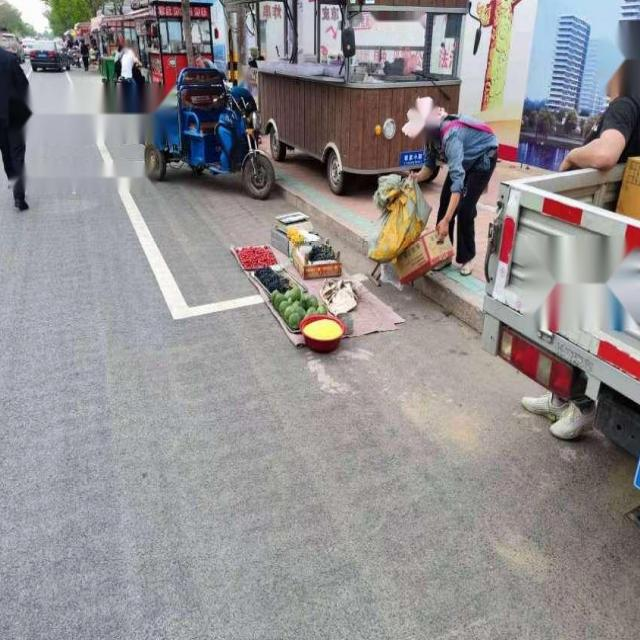car: (247, 0, 483, 195), (114, 66, 274, 200), (127, 0, 212, 89)
fixed_stall: (228, 206, 406, 354), (254, 48, 420, 80), (100, 10, 138, 57)
